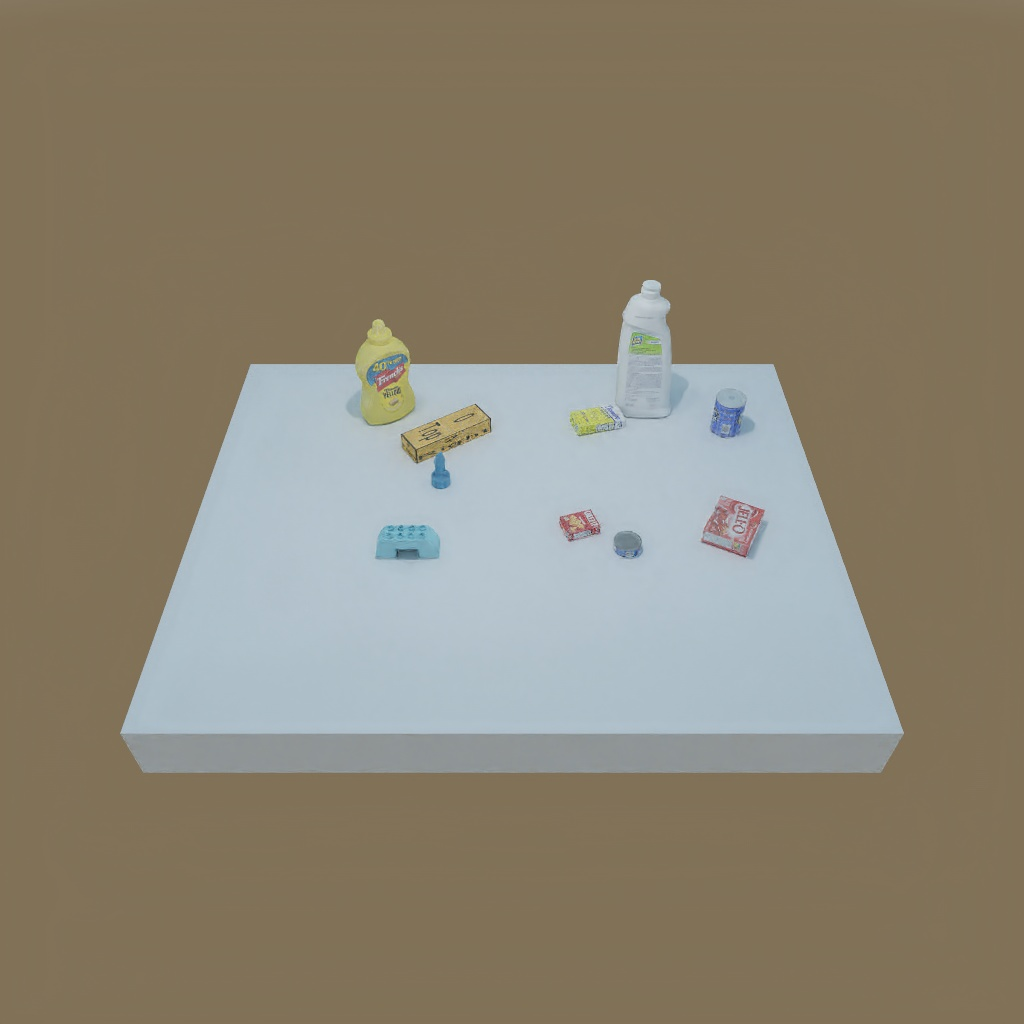gelatin_box: (703, 497, 763, 557)
jenga: (404, 404, 495, 460)
master_chef_can: (710, 385, 749, 444)
mustard_bottle: (356, 319, 417, 427)
